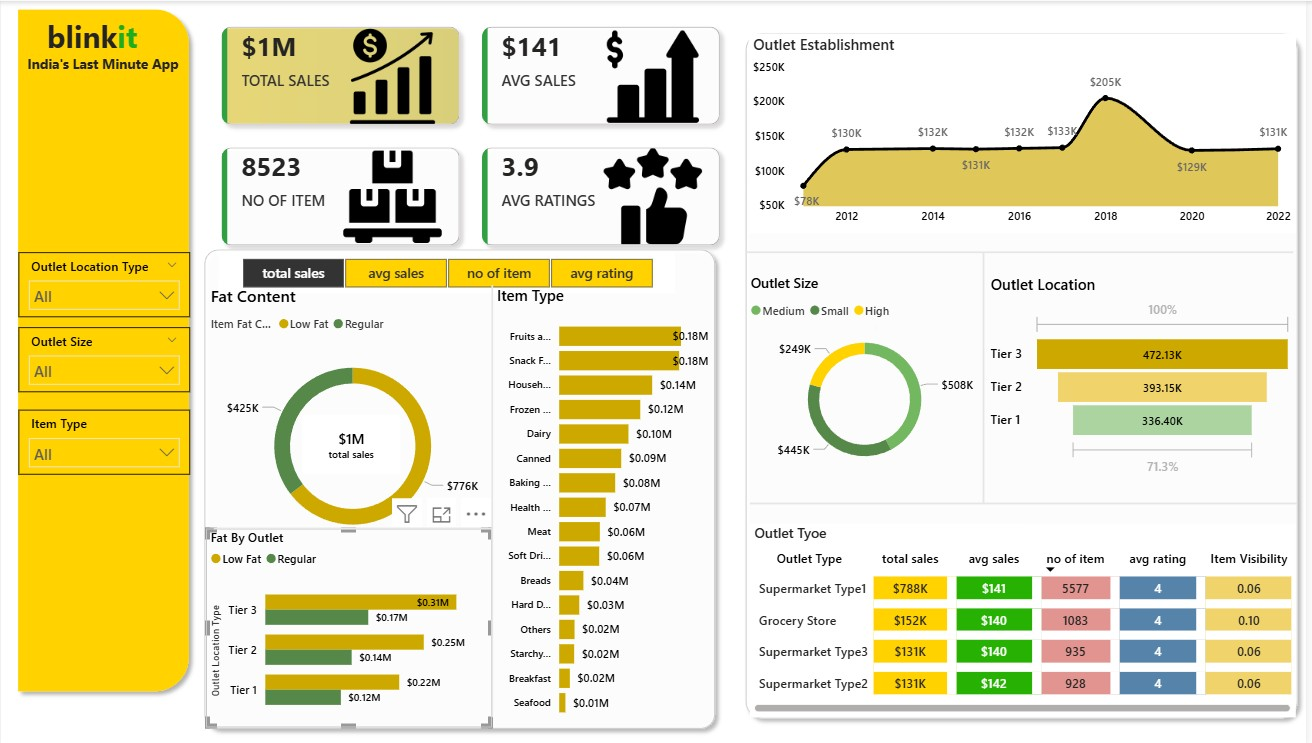

What the dashboard file says about the page in this screenshot:
{"tool":"powerbi","page":{"name":"Page 1","canvas":[1400,800],"ordinal":0},"visuals":[{"type":"shape","box":[9.4,0,201.1,749.3],"z":0},{"type":"textbox","box":[29.5,10.7,136.7,64.3],"z":1000},{"type":"textbox","box":[9.4,52.3,199.7,45.6],"z":2000},{"type":"cardVisual","fields":{"Data":["BlinkIT Grocery Data.total sales","BlinkIT Grocery Data.avg sales","BlinkIT Grocery Data.no of item","BlinkIT Grocery Data.avg rating"]},"box":[219.8,10.7,569.7,269.4],"z":3000},{"type":"shape","box":[209.1,257.4,565.7,532.2],"z":4000},{"type":"slicer","fields":{"Values":["metrics.metrics"]},"box":[233.2,269.4,489.3,44.2],"z":5000},{"type":"donutChart","title":"Fat Content","fields":{"Y":["BlinkIT Grocery Data.total sales"],"Category":["BlinkIT Grocery Data.Item Fat Content"]},"box":[219.8,304.3,315,296.2],"z":6000},{"type":"cardVisual","fields":{"Data":["BlinkIT Grocery Data.total sales"]},"box":[323.1,443.7,105.9,64.3],"z":7000},{"type":"clusteredBarChart","title":"Fat By Outlet","fields":{"Y":["BlinkIT Grocery Data.total sales"],"Category":["BlinkIT Grocery Data.Outlet Location Type"],"Series":["BlinkIT Grocery Data.Item Fat Content"]},"box":[219.8,565.7,307,213.1],"z":8000},{"type":"shape","box":[227.9,561.7,298.9,8],"z":9000},{"type":"shape","box":[789.5,345.8,298.9,8],"z":10000},{"type":"shape","box":[439.7,304.3,174.3,463.8],"z":11000},{"type":"barChart","title":"Item Type","fields":{"Y":["BlinkIT Grocery Data.total sales"],"Category":["BlinkIT Grocery Data.Item Type"]},"box":[526.8,304.3,237.3,474.5],"z":12000},{"type":"shape","box":[790,25.7,610,752.9],"z":13000},{"type":"lineChart","title":"Outlet Establishment","fields":{"Y":["BlinkIT Grocery Data.total sales"],"Category":["BlinkIT Grocery Data.Outlet Establishment Year"]},"box":[801.6,34.9,587.1,214.5],"z":14000},{"type":"shape","box":[798.9,265.4,587.1,8],"z":15000},{"type":"donutChart","title":"Outlet Size","fields":{"Y":["BlinkIT Grocery Data.total sales"],"Category":["BlinkIT Grocery Data.Outlet Size"]},"box":[798.9,292.2,254.7,222.5],"z":16000},{"type":"shape","box":[1029.5,269.4,48.3,269.4],"z":17000},{"type":"funnel","title":"Outlet Location","fields":{"Y":["Sum(BlinkIT Grocery Data.Sales)"],"Category":["BlinkIT Grocery Data.Outlet Location Type"]},"box":[1056.3,292.2,333.8,222.5],"z":18000},{"type":"shape","box":[803,536.2,587.1,5.4],"z":19000},{"type":"pivotTable","title":"Outlet Tyoe","fields":{"Rows":["BlinkIT Grocery Data.Outlet Type"],"Values":["BlinkIT Grocery Data.total sales","BlinkIT Grocery Data.avg sales","BlinkIT Grocery Data.no of item","BlinkIT Grocery Data.avg rating","Avg(BlinkIT Grocery Data.Item Visibility)"]},"box":[803,560.3,585.8,207.8],"z":20000},{"type":"slicer","fields":{"Values":["BlinkIT Grocery Data.Outlet Location Type"]},"box":[18.8,269.4,183.6,69.7],"z":21000},{"type":"slicer","fields":{"Values":["BlinkIT Grocery Data.Outlet Size"]},"box":[18.8,349.9,183.6,69.7],"z":22000},{"type":"slicer","fields":{"Values":["BlinkIT Grocery Data.Item Type"]},"box":[18.8,438.3,183.6,69.7],"z":23000}]}

Visuals, with their boxes in screenshot pixels (x1, y1, x2, y2), scaled from the page's 1400x800 canvas onto the 1312x743 screenshot:
shape: rect(9, 0, 197, 696)
textbox: rect(28, 10, 156, 70)
textbox: rect(9, 49, 196, 91)
cardVisual - BlinkIT Grocery Data.total sales x BlinkIT Grocery Data.avg sales: rect(206, 10, 740, 260)
shape: rect(196, 239, 726, 733)
slicer - metrics.metrics: rect(219, 250, 677, 291)
"Fat Content" donutChart: rect(206, 283, 501, 558)
cardVisual - BlinkIT Grocery Data.total sales: rect(303, 412, 402, 472)
"Fat By Outlet" clusteredBarChart: rect(206, 525, 494, 723)
shape: rect(214, 522, 494, 529)
shape: rect(740, 321, 1020, 329)
shape: rect(412, 283, 575, 713)
"Item Type" barChart: rect(494, 283, 716, 723)
shape: rect(740, 24, 1311, 723)
"Outlet Establishment" lineChart: rect(751, 32, 1301, 232)
shape: rect(749, 246, 1299, 254)
"Outlet Size" donutChart: rect(749, 271, 987, 478)
shape: rect(965, 250, 1010, 500)
"Outlet Location" funnel: rect(990, 271, 1303, 478)
shape: rect(753, 498, 1303, 503)
"Outlet Tyoe" pivotTable: rect(753, 520, 1302, 713)
slicer - BlinkIT Grocery Data.Outlet Location Type: rect(18, 250, 190, 315)
slicer - BlinkIT Grocery Data.Outlet Size: rect(18, 325, 190, 390)
slicer - BlinkIT Grocery Data.Item Type: rect(18, 407, 190, 472)
